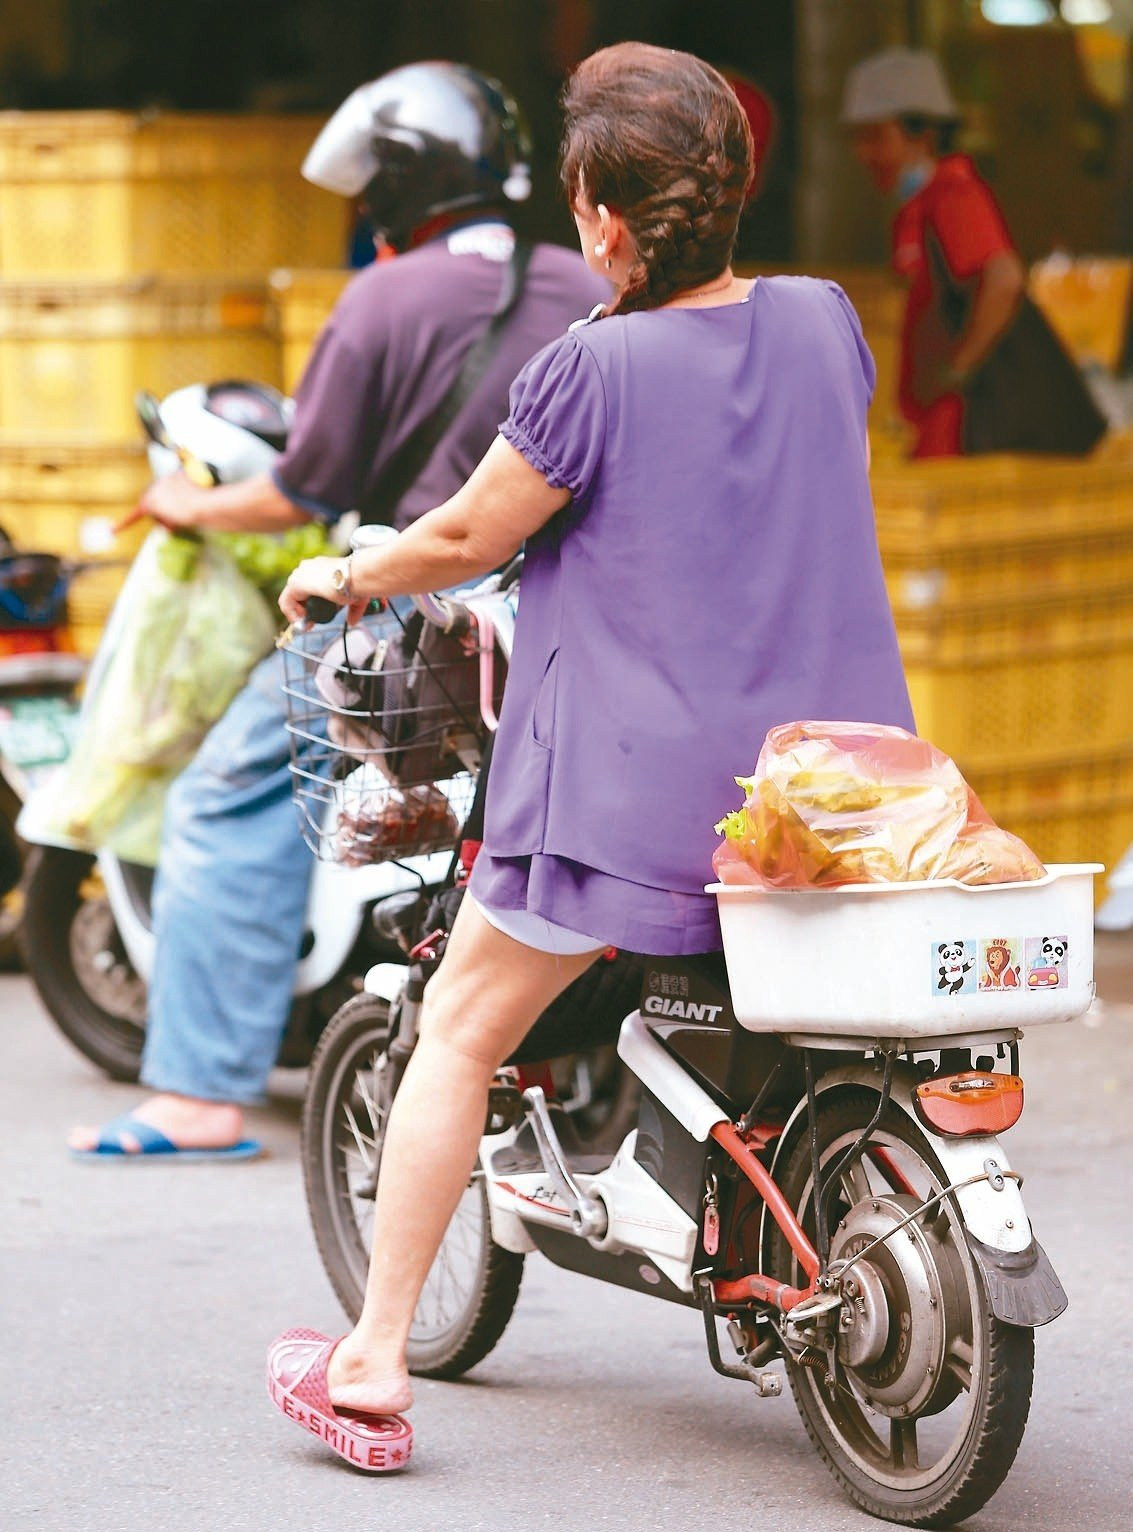helmet: (317, 65, 531, 210)
